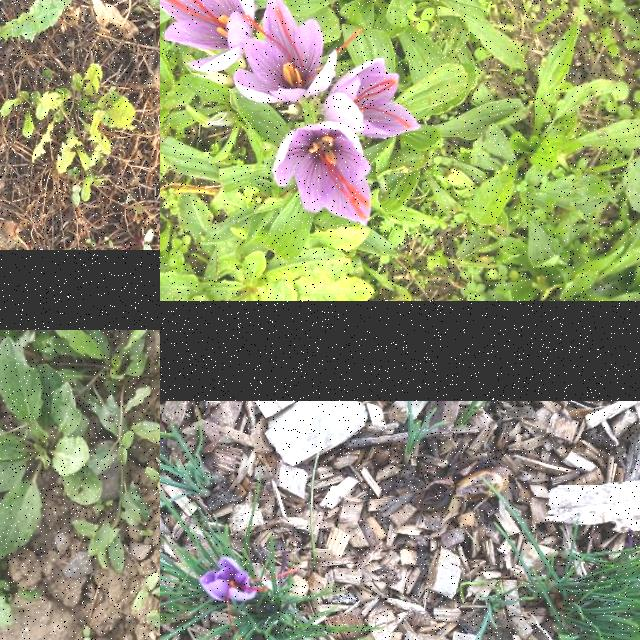flower: (234, 0, 364, 104), (272, 121, 372, 226), (322, 58, 422, 140), (200, 558, 298, 636), (160, 0, 256, 73)
